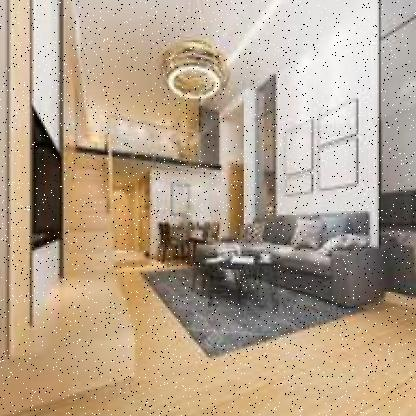stair_up: (55, 183, 130, 284)
